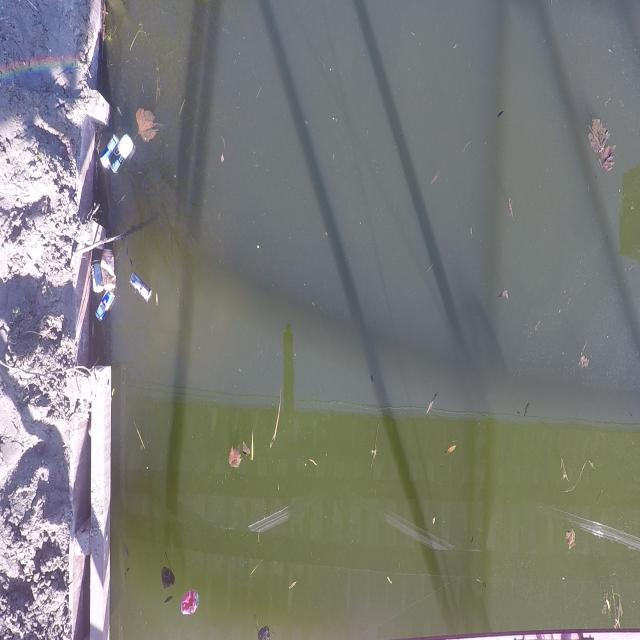Non plastique: (110, 134, 136, 173), (100, 135, 119, 170), (96, 290, 115, 319), (102, 248, 115, 290), (131, 275, 151, 302), (182, 591, 198, 614), (93, 260, 103, 292)
